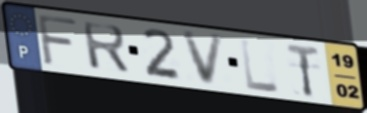2: (143, 28, 183, 82)
F: (35, 12, 80, 69)
L: (238, 37, 282, 95)
R: (80, 20, 132, 76)
T: (284, 42, 321, 99)
V: (180, 30, 228, 87)
